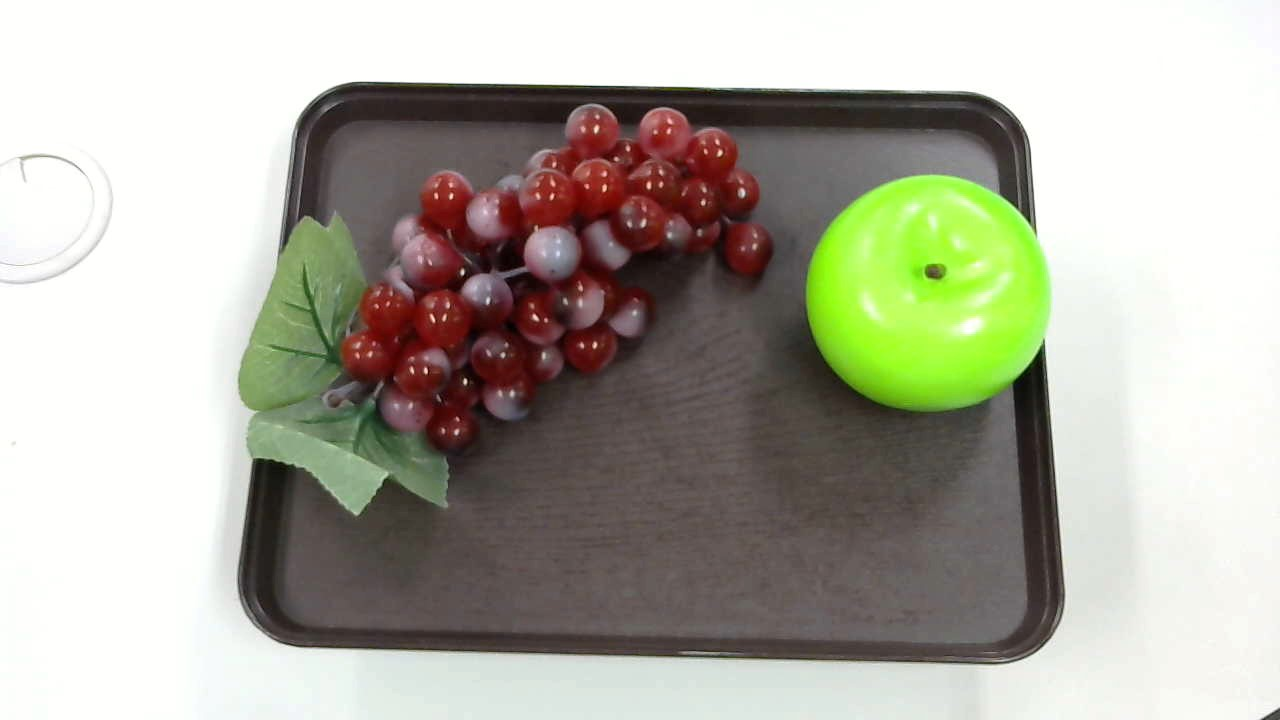grape: (235, 100, 788, 527)
green apple: (808, 176, 1046, 413)
